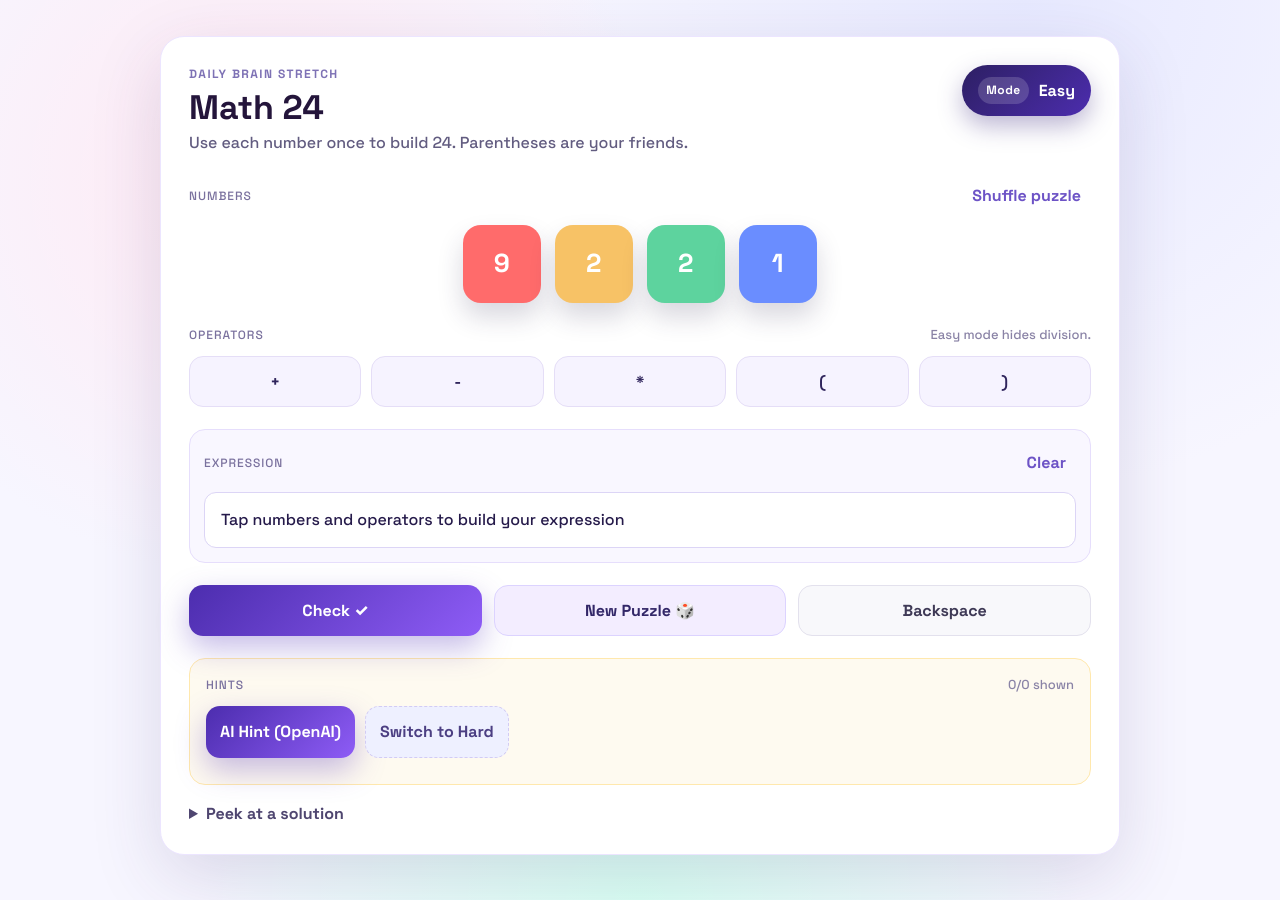
Scenario: Math24Game › Solution Checking › shows error when not all numbers are used
Click the button "9": [502, 264] box [463,225,541,303]
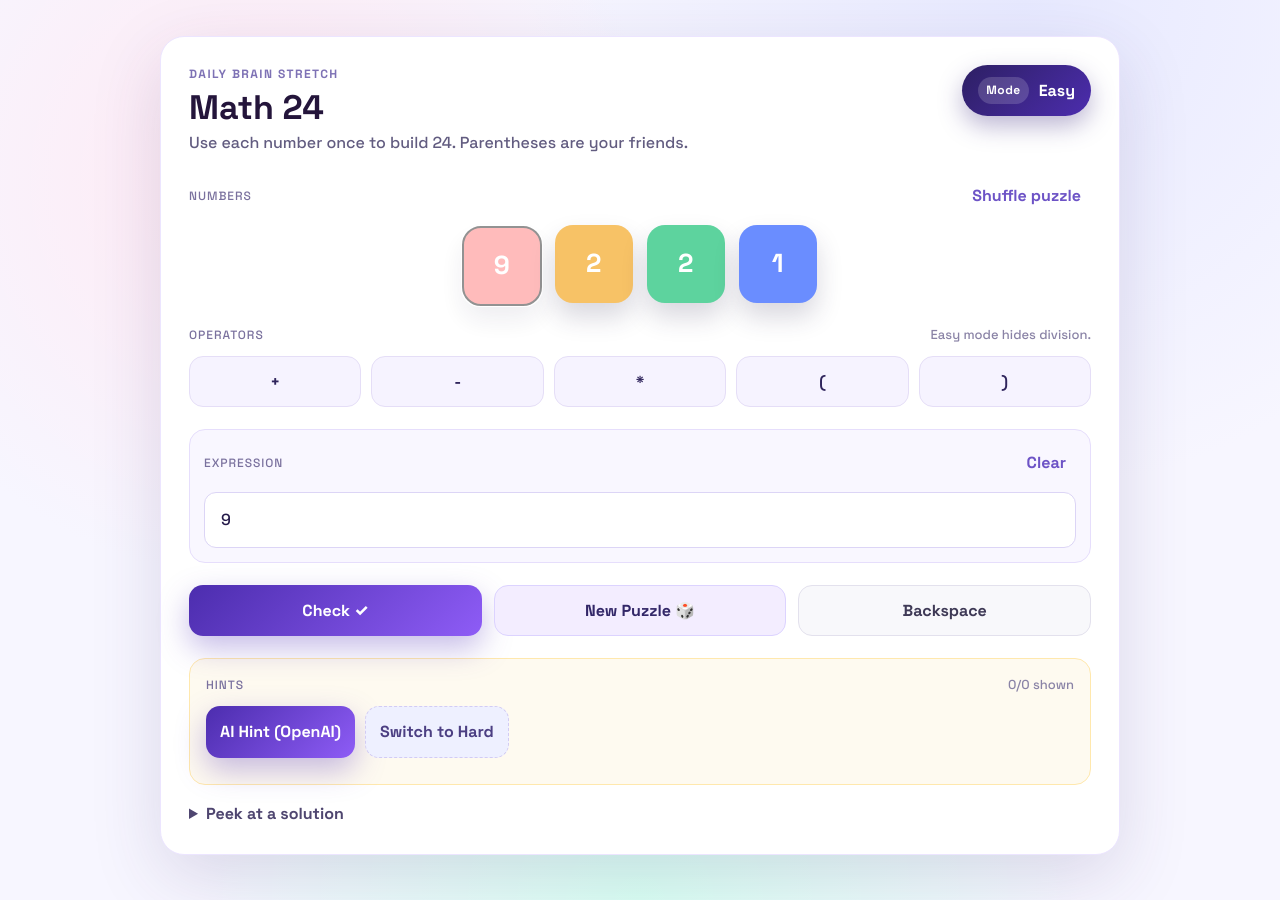
Click the button named "Add +": [275, 382] box [189,356,361,408]
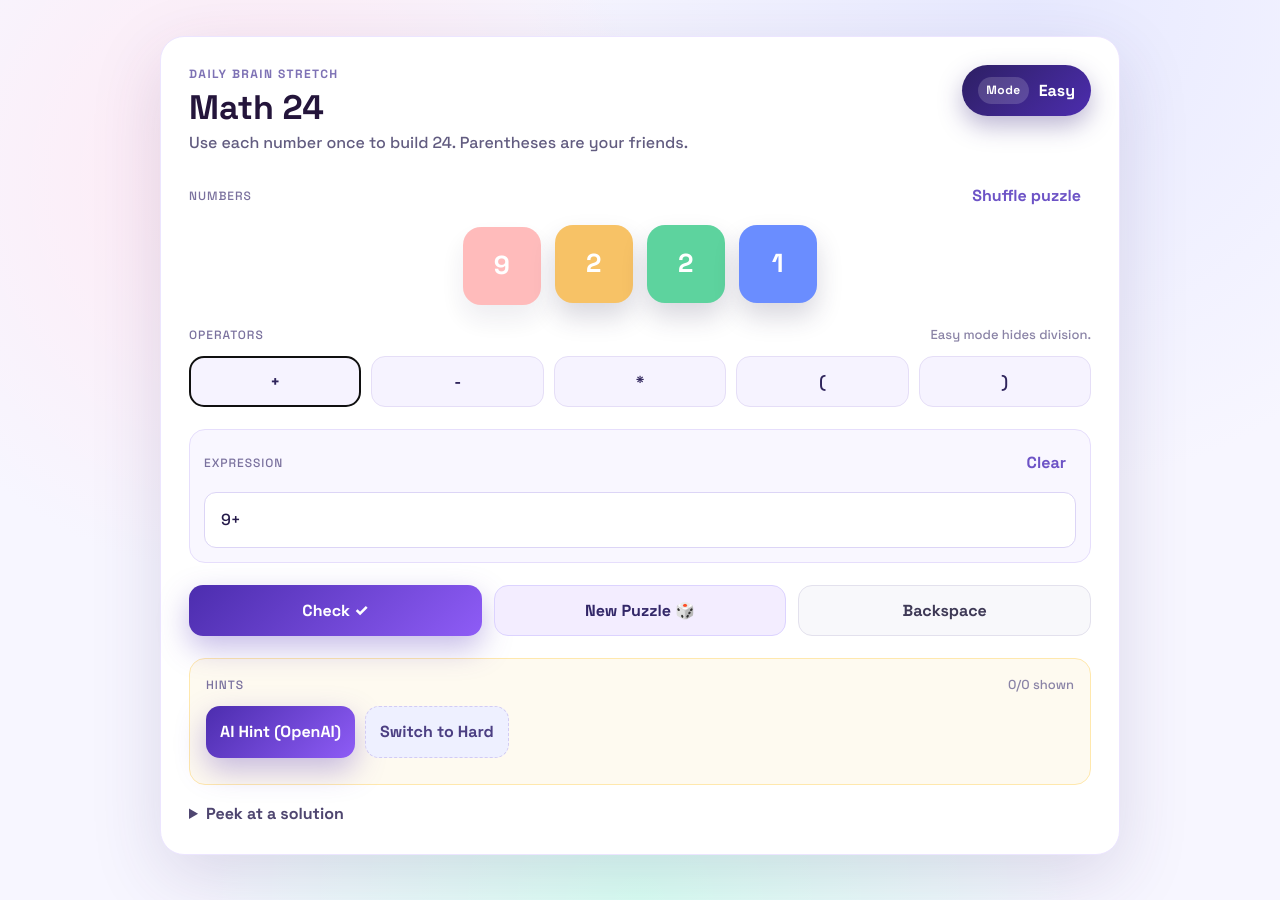
Click the 1st button "2": [594, 264] box [555,225,633,303]
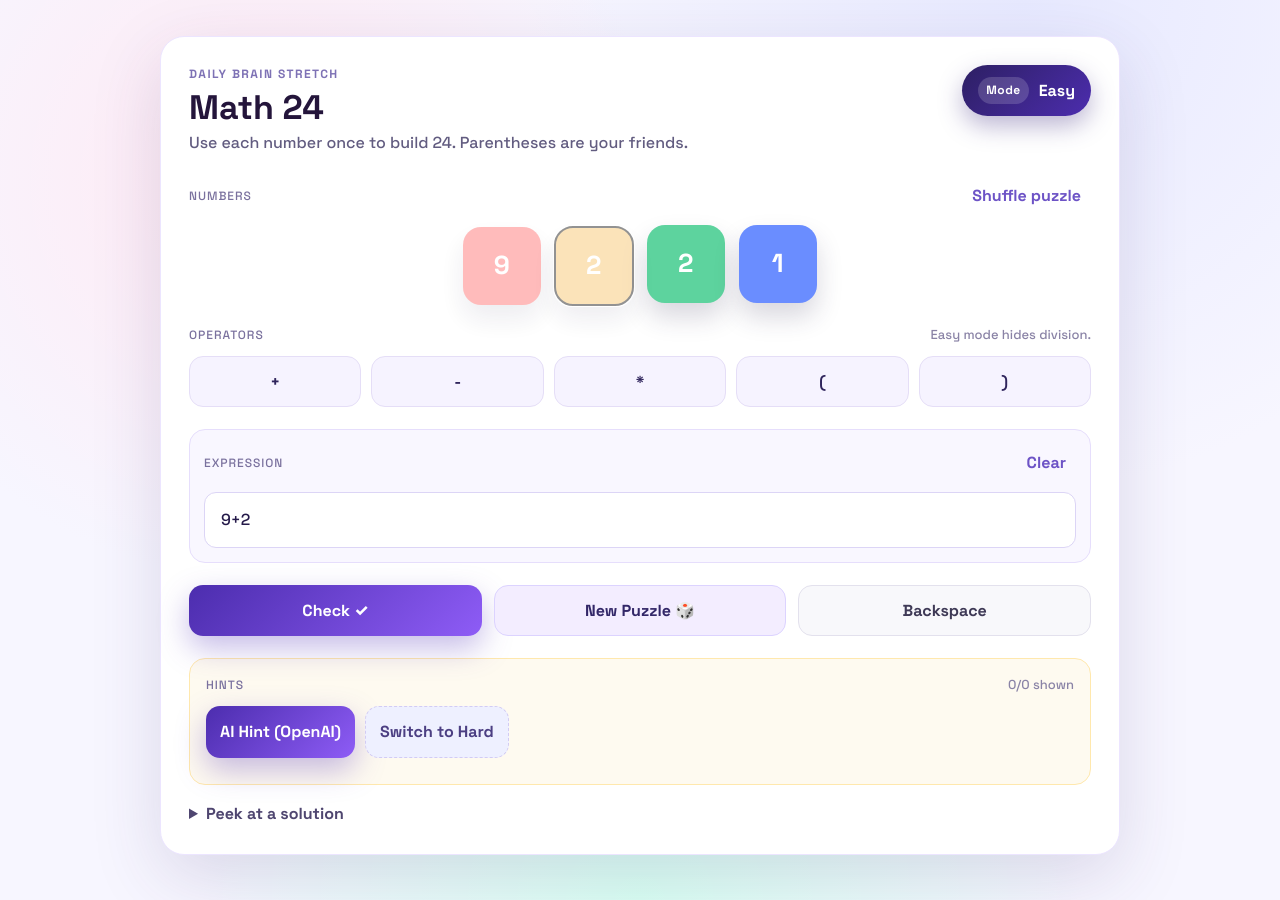
Click the button "Check ✓": [335, 610] box [189,585,482,636]
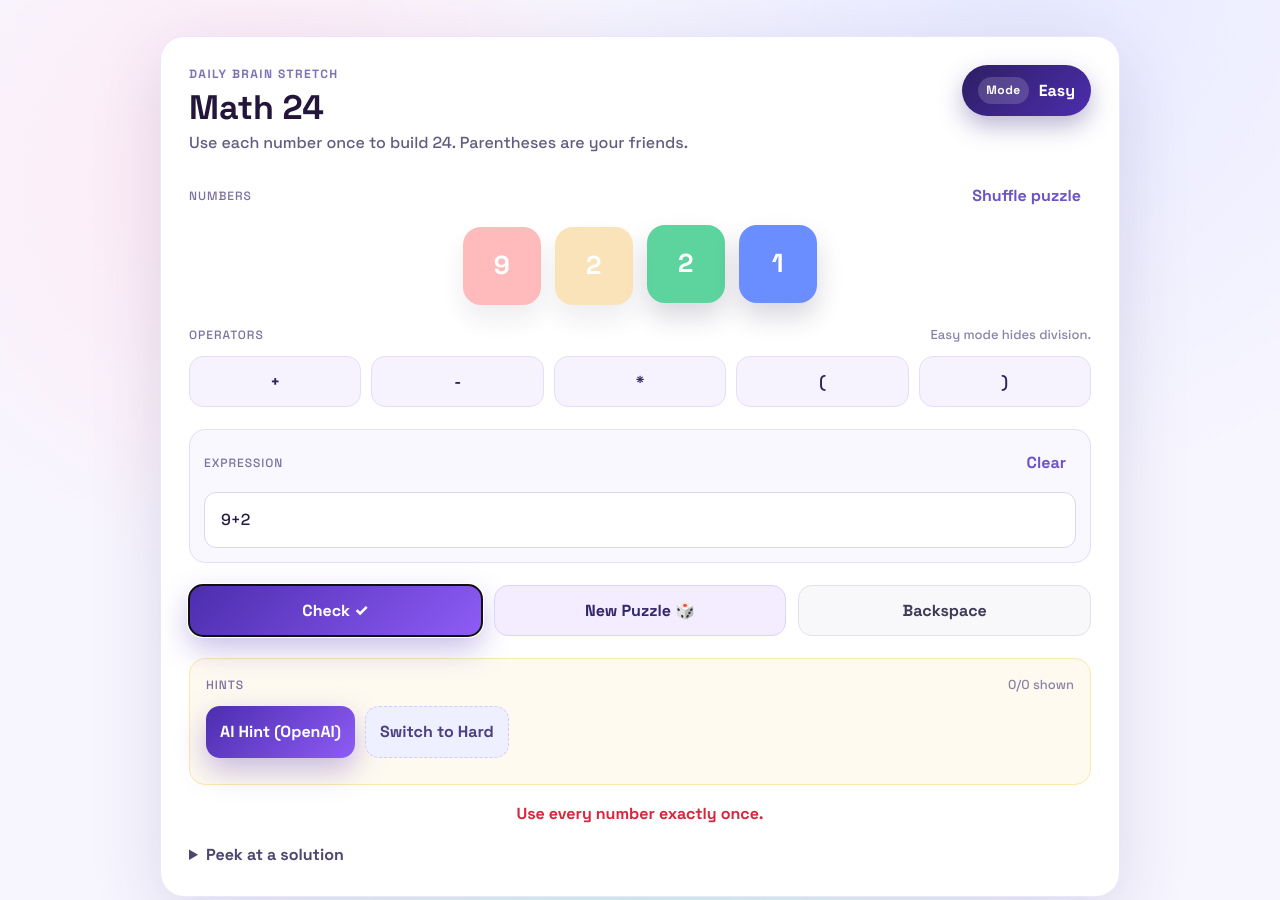
Result: the text "Use every number exactly once." is shown at [516,803,764,824]
